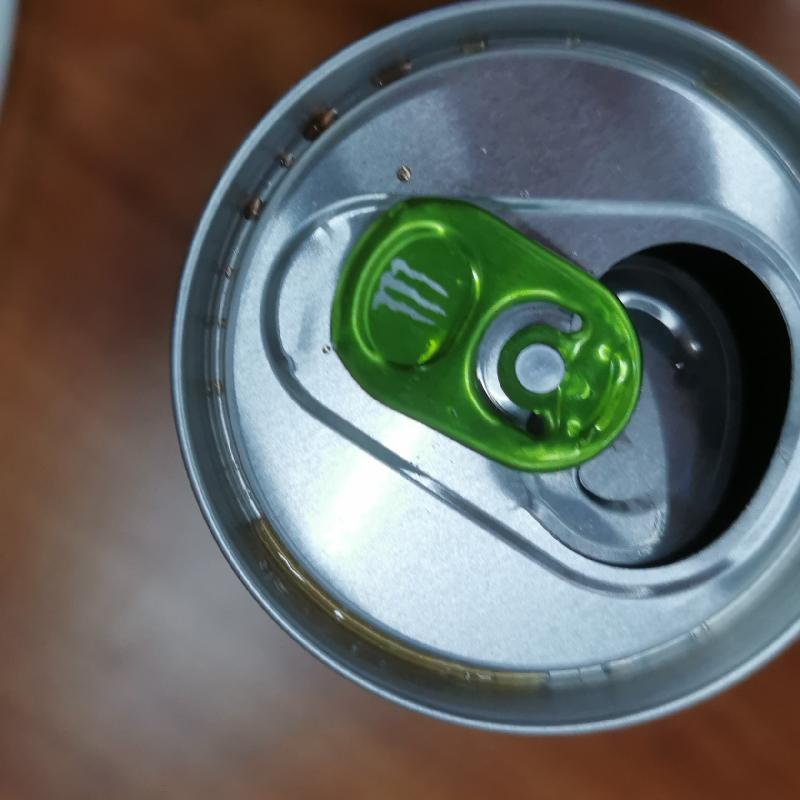cans: (169, 1, 800, 738)
